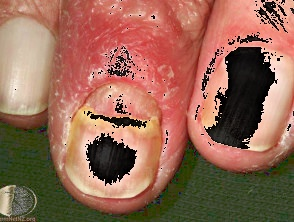Nail_psoriasis: (37, 0, 213, 218), (189, 20, 294, 173), (0, 0, 58, 136)
